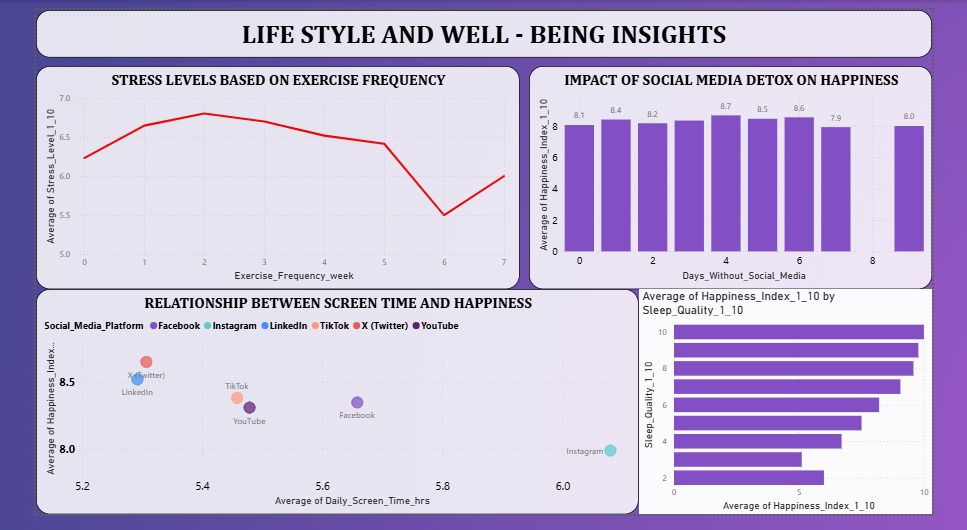

Layout of this report page (visuals, bound fields, positions):
{"tool":"powerbi","page":{"name":"LIFE STYLE AND WELL BEING","canvas":[1280,720],"ordinal":1},"visuals":[{"type":"textbox","box":[0,0,1279.8,67.6],"z":0},{"type":"lineChart","title":"STRESS LEVELS BASED ON EXERCISE FREQUENCY","fields":{"Category":["Mental_Health_and_Social_Media_Balance_Dataset.Exercise_Frequency_week"],"Y":["Avg(Mental_Health_and_Social_Media_Balance_Dataset.Stress_Level_1_10)"]},"box":[0,79.3,690.6,318.9],"z":1},{"type":"columnChart","title":"IMPACT OF SOCIAL MEDIA DETOX ON HAPPINESS","fields":{"Category":["Mental_Health_and_Social_Media_Balance_Dataset.Days_Without_Social_Media"],"Y":["Avg(Mental_Health_and_Social_Media_Balance_Dataset.Happiness_Index_1_10)"]},"box":[703.8,79.3,576,318.9],"z":2},{"type":"scatterChart","title":"RELATIONSHIP BETWEEN SCREEN TIME AND HAPPINESS","fields":{"X":["Avg(Mental_Health_and_Social_Media_Balance_Dataset.Daily_Screen_Time_hrs)"],"Y":["Avg(Mental_Health_and_Social_Media_Balance_Dataset.Happiness_Index_1_10)"],"Series":["Mental_Health_and_Social_Media_Balance_Dataset.Social_Media_Platform"]},"box":[0,398.2,861.1,321.8],"z":3},{"type":"clusteredBarChart","fields":{"Category":["Mental_Health_and_Social_Media_Balance_Dataset.Sleep_Quality_1_10"],"Y":["Avg(Mental_Health_and_Social_Media_Balance_Dataset.Happiness_Index_1_10)"]},"box":[861,398,419,322],"z":4}]}

Visuals, with their boxes in screenshot pixels (x1, y1, x2, y2), scaled from the page's 1280x720 canvas onto the 967x530 screenshot:
textbox: bbox=[0, 0, 966, 50]
"STRESS LEVELS BASED ON EXERCISE FREQUENCY" lineChart: bbox=[0, 58, 522, 293]
"IMPACT OF SOCIAL MEDIA DETOX ON HAPPINESS" columnChart: bbox=[532, 58, 966, 293]
"RELATIONSHIP BETWEEN SCREEN TIME AND HAPPINESS" scatterChart: bbox=[0, 293, 651, 529]
clusteredBarChart - Mental_Health_and_Social_Media_Balance_Dataset.Sleep_Quality_1_10 x Avg(Mental_Health_and_Social_Media_Balance_Dataset.Happiness_Index_1_10): bbox=[650, 293, 966, 529]
